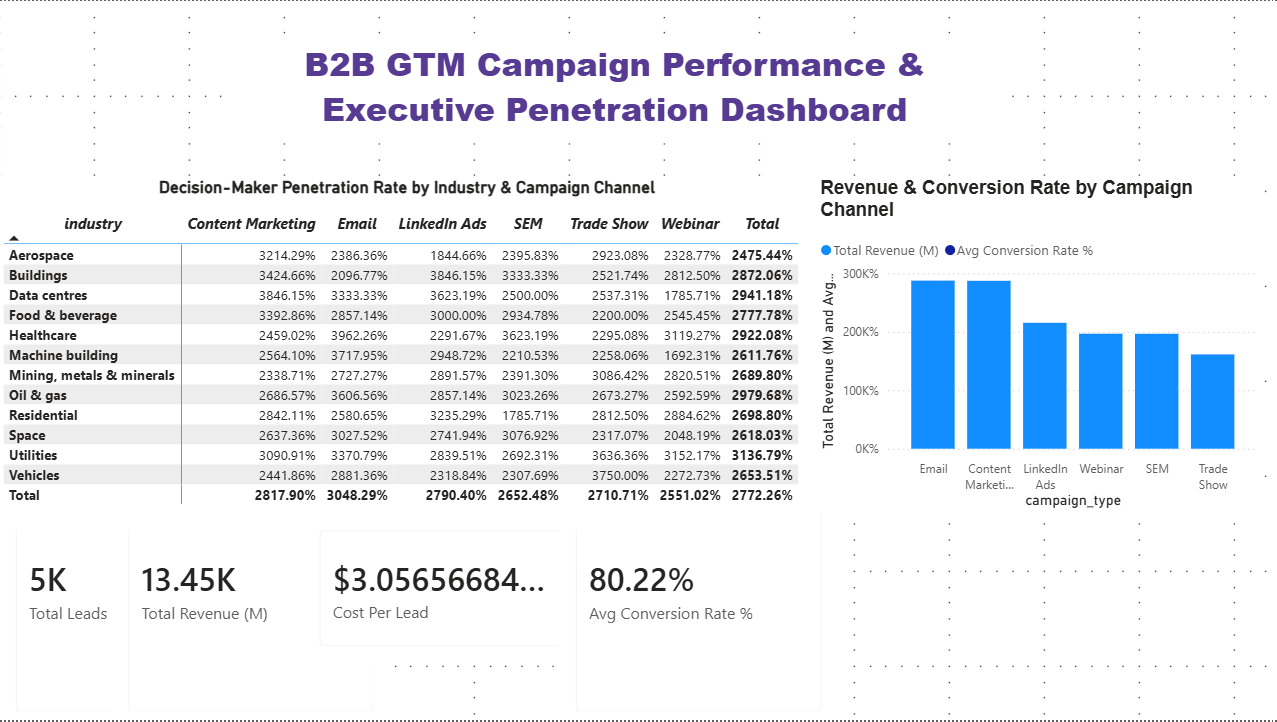

The dashboard page shown, as its layout file describes it:
{"tool":"powerbi","page":{"name":"Page 1","canvas":[1280,720],"ordinal":0},"visuals":[{"type":"cardVisual","fields":{"Data":["_Key_Metrics.Total Leads"]},"box":[0,448,280,280],"z":0},{"type":"cardVisual","fields":{"Data":["_Key_Metrics.Total Revenue (M)"]},"box":[112,448,280,280],"z":1},{"type":"cardVisual","fields":{"Data":["_Key_Metrics.Cost Per Lead"]},"box":[304,512,280,150],"z":2},{"type":"cardVisual","fields":{"Data":["_Key_Metrics.Avg Conversion Rate %"]},"box":[560,448,280,280],"z":3},{"type":"columnChart","title":"Revenue & Conversion Rate by Campaign Channel","fields":{"Y":["_Key_Metrics.Total Revenue (M)","_Key_Metrics.Avg Conversion Rate %"],"Category":["public companies.campaign_type"]},"box":[816,176,448,336],"z":4},{"type":"pivotTable","title":"Decision-Maker Penetration Rate by Industry & Campaign Channel","fields":{"Rows":["public companies.industry"],"Columns":["public companies.campaign_type"],"Values":["_Key_Metrics.Decision Maker Penetration %"]},"box":[0,176,816,352],"z":5},{"type":"textbox","box":[231.2,35,768.8,107.5],"z":6}]}

Visuals, with their boxes in screenshot pixels (x1, y1, x2, y2), scaled from the page's 1280x720 canvas onto the 1277x722 screenshot:
cardVisual - _Key_Metrics.Total Leads: <bbox>0, 449, 279, 721</bbox>
cardVisual - _Key_Metrics.Total Revenue (M): <bbox>112, 449, 391, 721</bbox>
cardVisual - _Key_Metrics.Cost Per Lead: <bbox>303, 513, 583, 664</bbox>
cardVisual - _Key_Metrics.Avg Conversion Rate %: <bbox>559, 449, 838, 721</bbox>
"Revenue & Conversion Rate by Campaign Channel" columnChart: <bbox>814, 176, 1261, 513</bbox>
"Decision-Maker Penetration Rate by Industry & Campaign Channel" pivotTable: <bbox>0, 176, 814, 529</bbox>
textbox: <bbox>231, 35, 998, 143</bbox>
